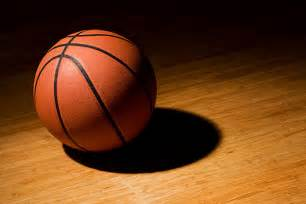basketball: (32, 29, 160, 151)
